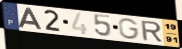2: (43, 9, 61, 33)
4: (71, 12, 90, 36)
5: (93, 13, 113, 39)
A: (18, 7, 44, 31)
G: (118, 17, 141, 40)
R: (140, 20, 164, 43)
